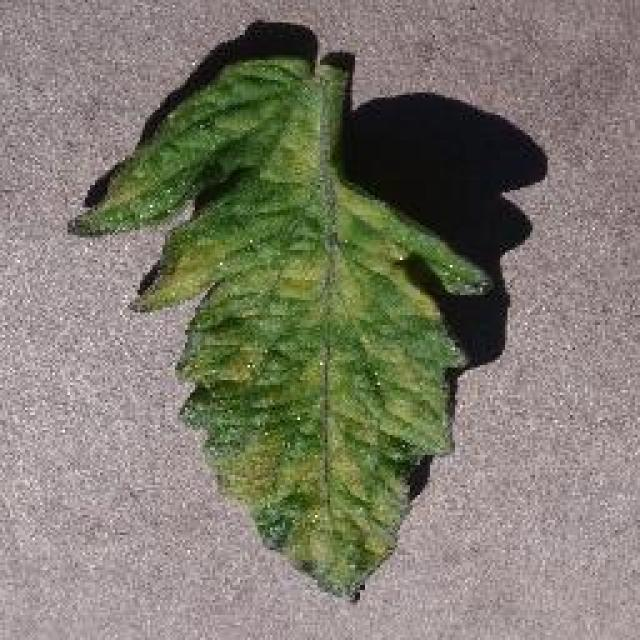Tomato___Leaf_Mold: (72, 58, 488, 598)
